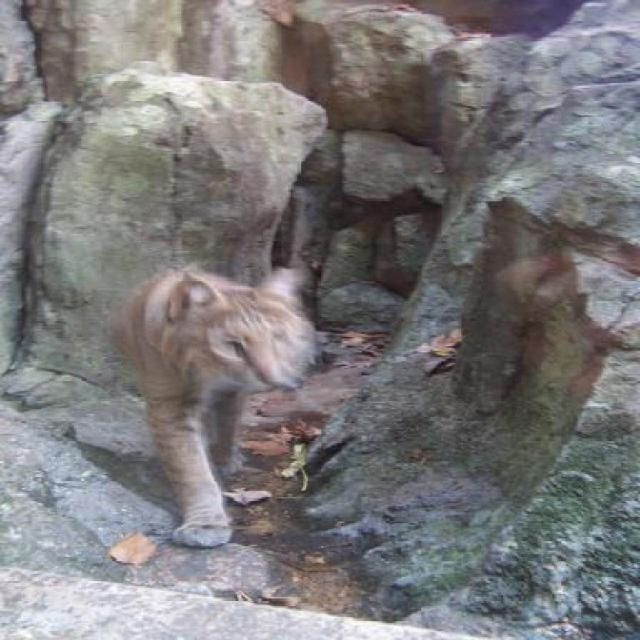Lion: (43, 242, 348, 638)
